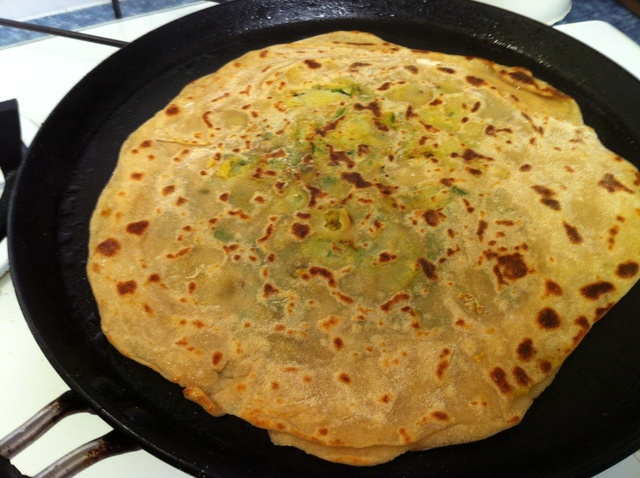aloo_paratha: (87, 28, 637, 465)
